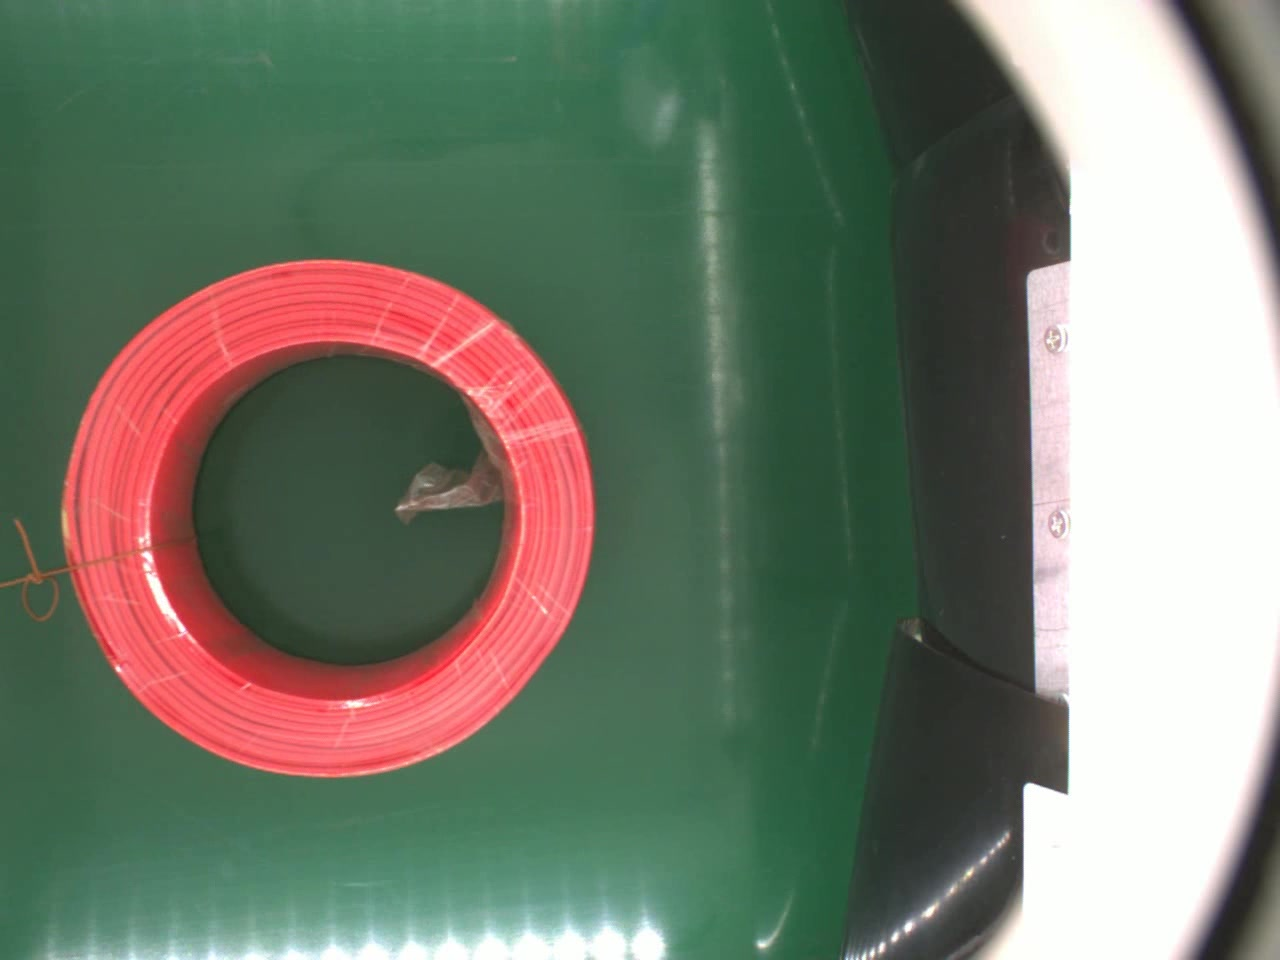red: (61, 257, 598, 777)
